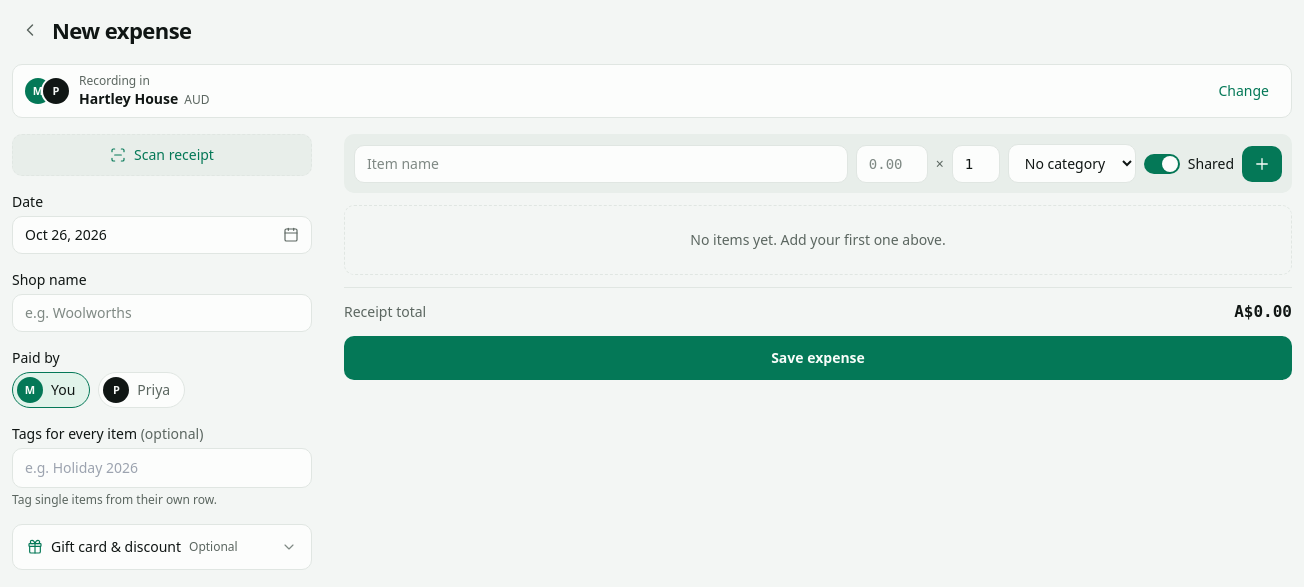
Test: ExpenseEditor changing group › returns to the form on Escape
Click the button with aria-label "change group".
click(1244, 91)  # box [1208,75,1279,107]
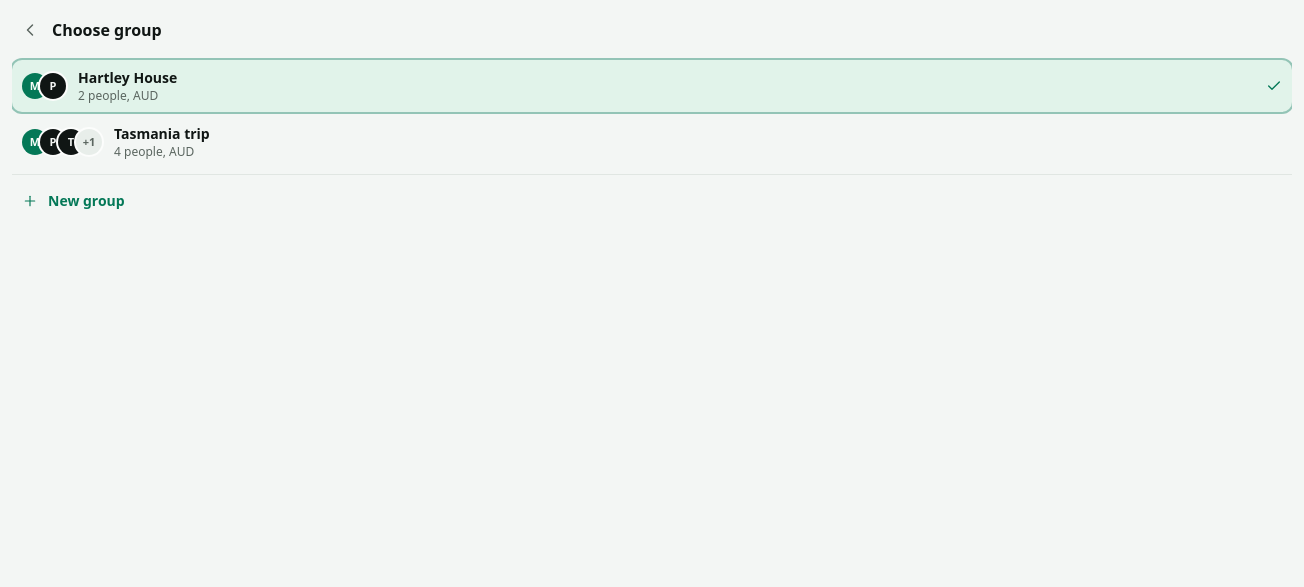
Press Escape
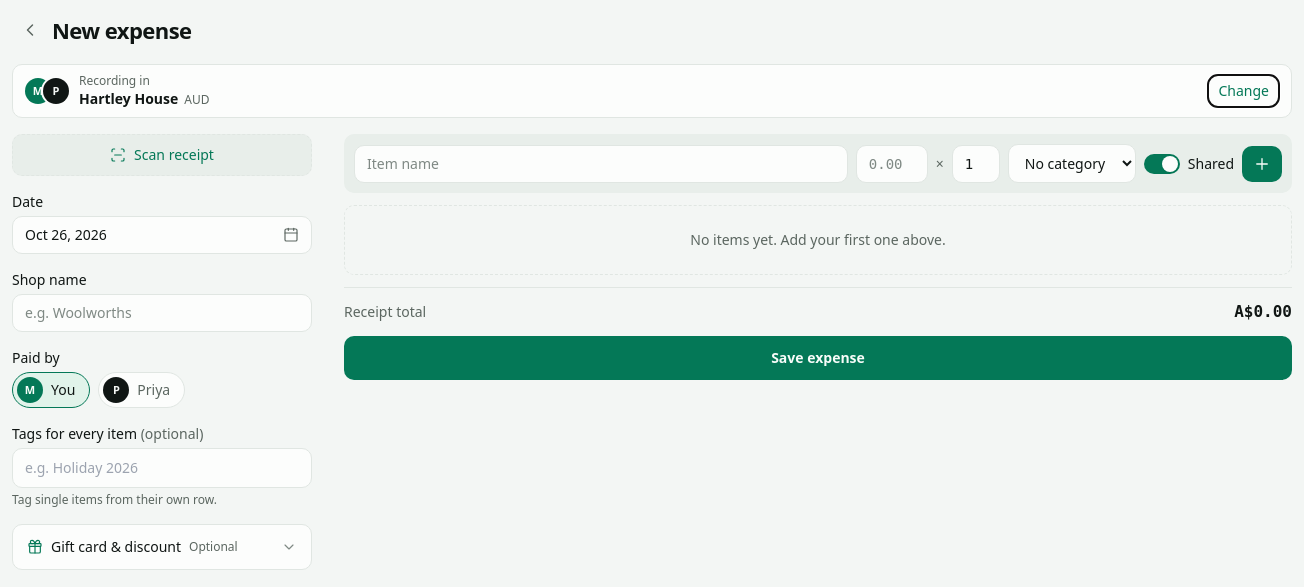
Expected: the list is gone
Expected: the dropdown labelled "Shop name" is shown, [12,294,312,332]
